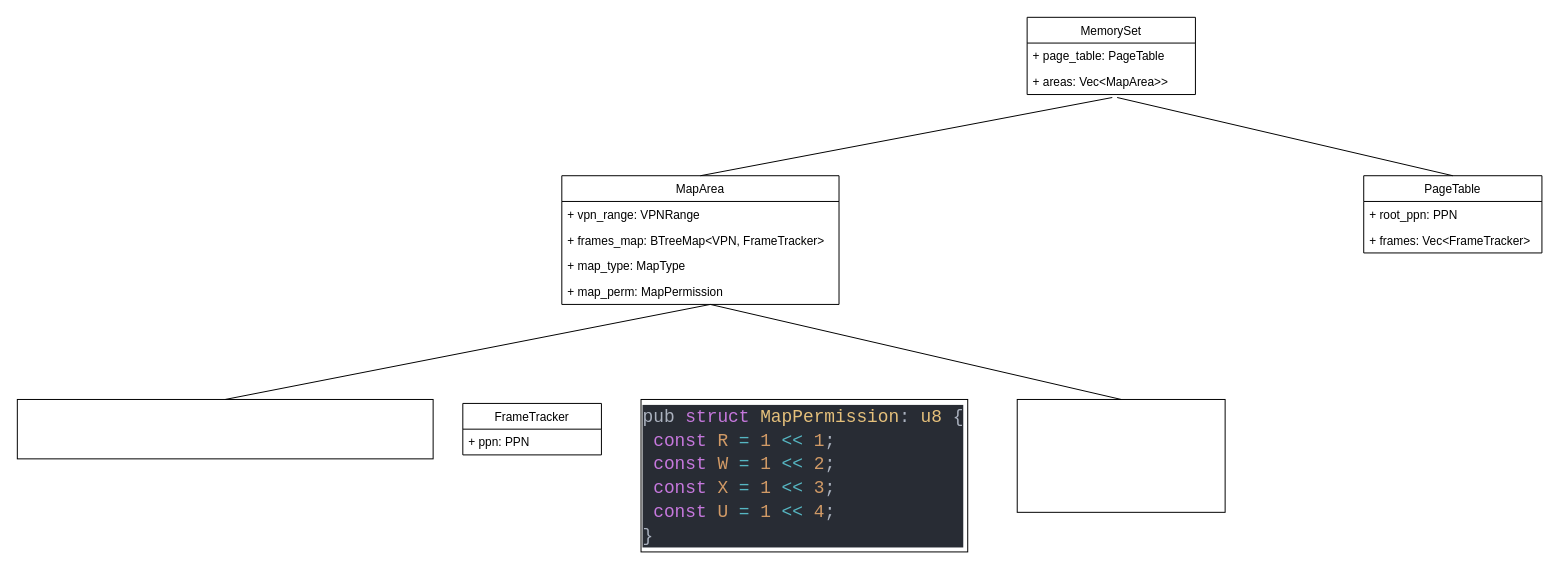
Some shapes in this 1559 by 569 pixel diagram are drawn without their labels. Each missing label, with the centre of its shape:
"pub enum MapType { Identical , Framed , }" belongs at pixel 1120 455.
"type VPNRange = SimpleRange < VirtPageNum >" belongs at pixel 224 428.
